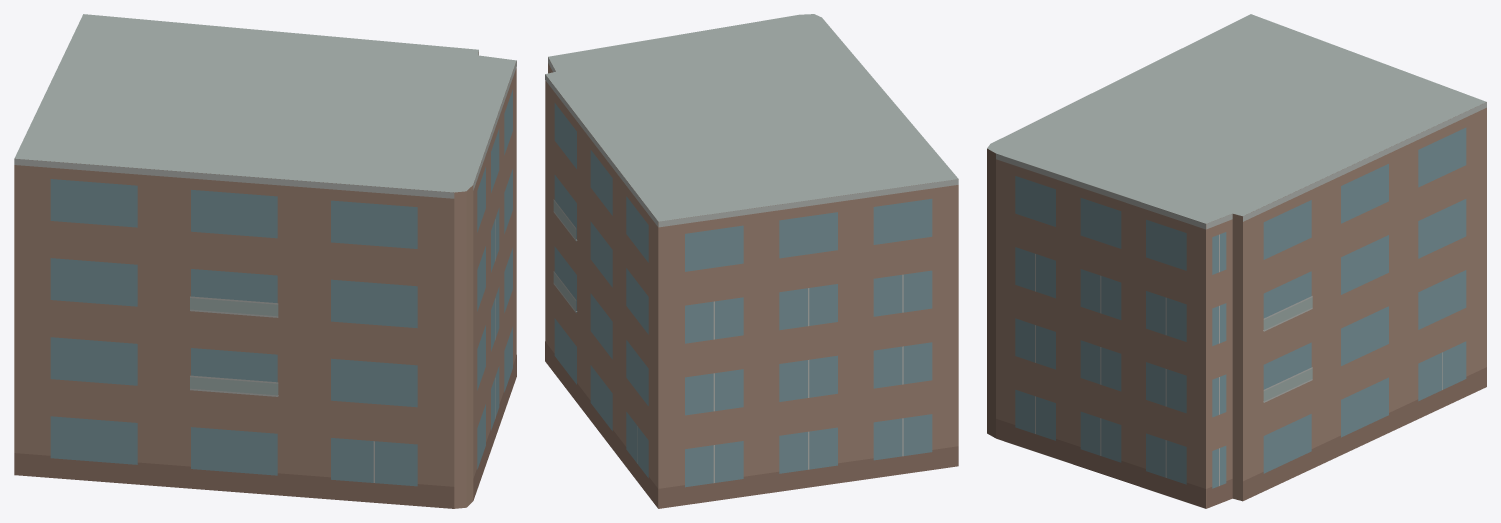
Rendered from survey-upis-32899559.glb.
3 renders of one model, left to right at view 1: azimuth 30°, elevation 25°; view 2: azimuth 150°, elevation 25°; view 3: azimuth 270°, elevation 25°, orthographic. The views are drawn at different scales.
Visible parts, largest first — view 1: survey-upis-32899559.tmp; view 2: survey-upis-32899559.tmp; view 3: survey-upis-32899559.tmp.
Boxes of the visible parts, box(x1,y1,x2,y2) form: survey-upis-32899559.tmp: box(14, 14, 516, 508); survey-upis-32899559.tmp: box(545, 14, 958, 508); survey-upis-32899559.tmp: box(987, 14, 1486, 508).
Size of the model in its own units: 19.27 by 12.2 by 19.4.
